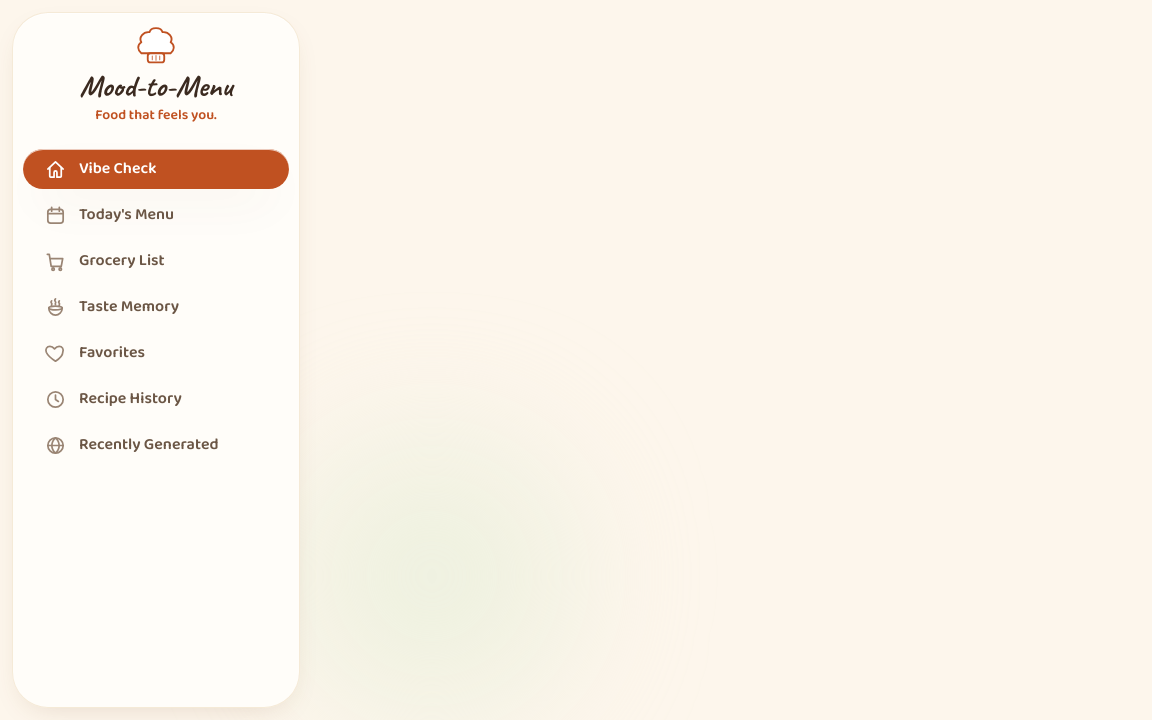
Test: AppShell grocery list integration › Grocery List nav opens the real screen and becomes the active nav item
Click the button "Grocery List". click: [156, 261]
box: [23, 241, 289, 281]
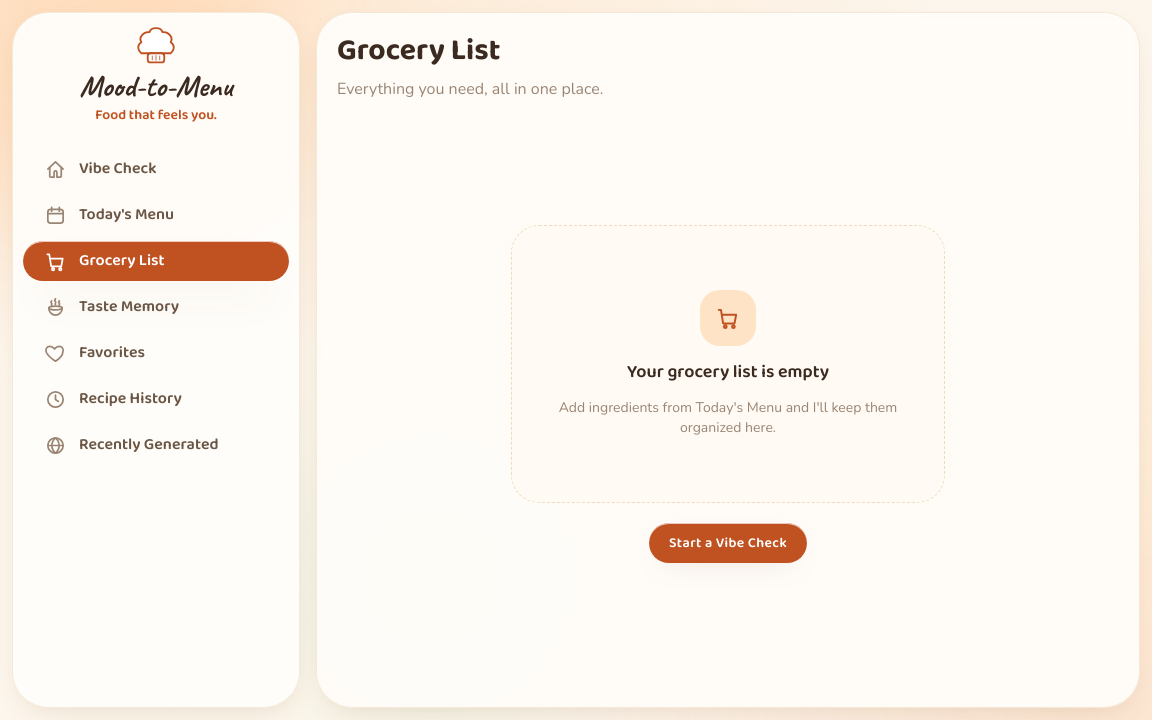
Result: the heading "Grocery List" is shown at [337, 27, 500, 75]
